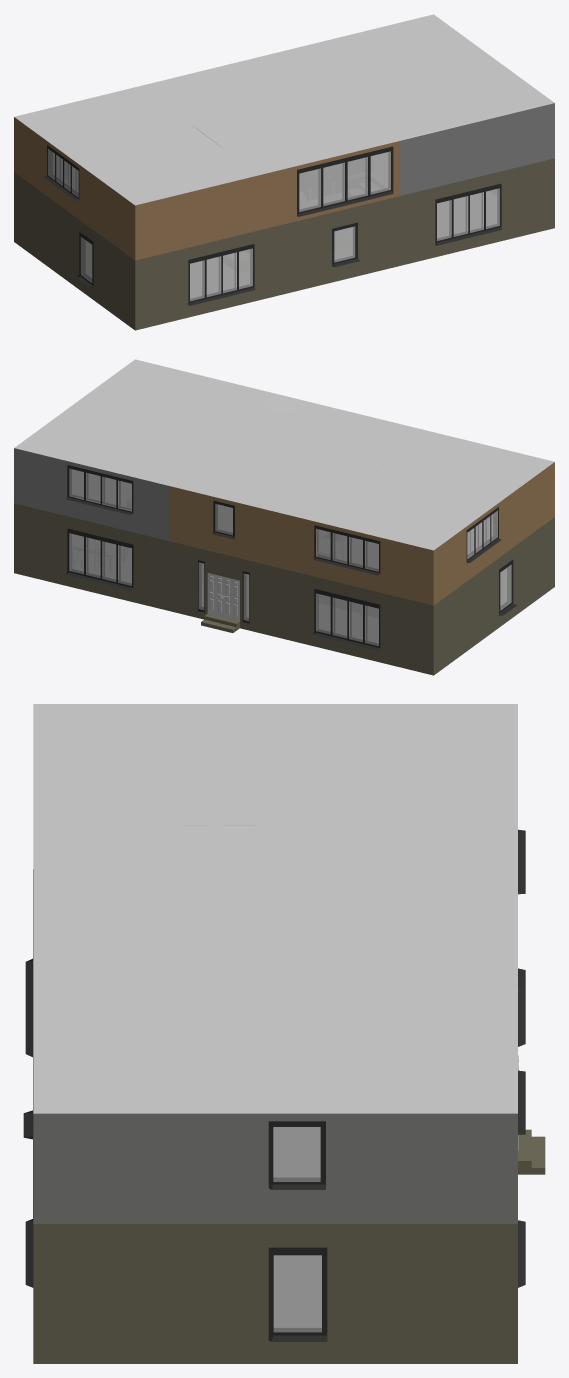
The model's file is FinalHouse.fbx.
The picture shows the model from 3 angles, top to bottom: view 1: azimuth 30°, elevation 25°; view 2: azimuth 150°, elevation 25°; view 3: azimuth 270°, elevation 25°; orthographic projection. The views are drawn at different scales.
Parts seen in each view (by area): view 1: HouseRoof, HouseFloor1, HouseFloor2, WindowS, WindowSingle.002; view 2: HouseRoof, HouseFloor1, HouseFloor2, WindowN, WindowSingle.002, DoubleDoors, WindowSingle.004; view 3: HouseRoof, HouseFloor1, HouseFloor2, WindowSingle.003, WindowSingle.000, WindowN, WindowS.
Boxes of the visible parts, x1=… form: HouseRoof: x1=14, y1=14, x2=554, y2=205; HouseFloor1: x1=14, y1=158, x2=554, y2=330; HouseFloor2: x1=14, y1=103, x2=554, y2=260; WindowS: x1=188, y1=146, x2=502, y2=305; WindowSingle.002: x1=44, y1=145, x2=93, y2=288; HouseRoof: x1=14, y1=359, x2=554, y2=550; HouseFloor1: x1=14, y1=503, x2=554, y2=675; HouseFloor2: x1=14, y1=448, x2=554, y2=605; WindowN: x1=66, y1=465, x2=380, y2=650; WindowSingle.002: x1=466, y1=507, x2=517, y2=615; DoubleDoors: x1=207, y1=573, x2=239, y2=621; WindowSingle.004: x1=242, y1=571, x2=249, y2=623; HouseRoof: x1=33, y1=704, x2=517, y2=1113; HouseFloor1: x1=33, y1=1129, x2=545, y2=1363; HouseFloor2: x1=33, y1=825, x2=517, y2=1223; WindowSingle.003: x1=268, y1=1247, x2=327, y2=1341; WindowSingle.000: x1=268, y1=1121, x2=325, y2=1189; WindowN: x1=518, y1=829, x2=525, y2=1287; WindowS: x1=23, y1=869, x2=33, y2=1287.
Size of the model in its own units: 3263 by 912 by 1722.
